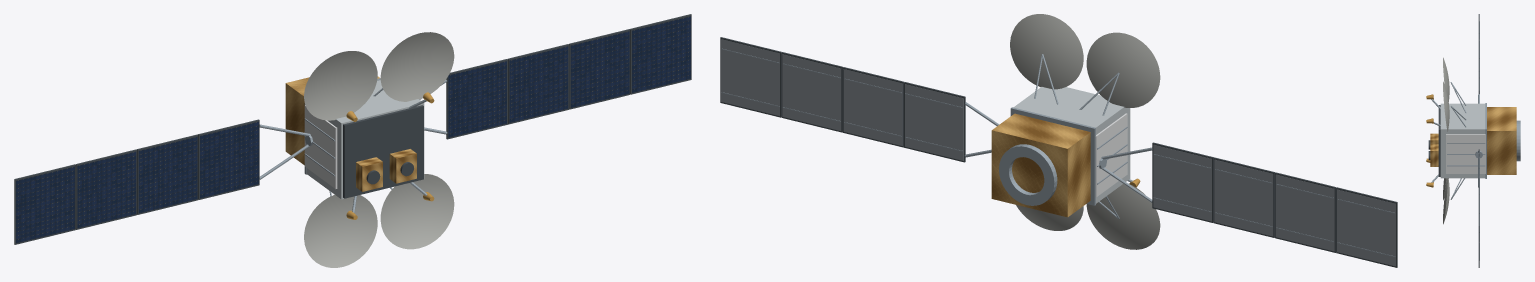
Rendered from ref-hs-601hp-24916.glb.
3 renders of one model, left to right at view 1: azimuth 30°, elevation 25°; view 2: azimuth 150°, elevation 25°; view 3: azimuth 270°, elevation 25°, orthographic. The views are drawn at different scales.
Parts seen in each view (by area): view 1: Solar cell panel (×8), Communications reflector (×4), Earth-facing deck, Solar panel frame (×8), Payload module, Radiator face, Service module, Communications feed assembly (×2); view 2: Rear array substrate (×8), Communications reflector (×4), Service module, Solar panel frame (×8), Payload module, Launch adapter ring, Radiator face, Module interface; view 3: Service module, Payload module, Radiator face, Communications reflector (×3), Communications feed assembly (×2), Launch adapter ring, Earth-facing deck, Solar panel frame, Module interface, Radiator seam.
Boxes of the visible parts, x1,y1,x2,y2 form: Solar cell panel (×8): (16,16,690,243); Communications reflector (×4): (304,32,454,267); Earth-facing deck: (343,105,423,198); Solar panel frame (×8): (14,14,691,244); Payload module: (306,80,424,199); Radiator face: (304,105,337,188); Service module: (285,76,379,165); Communications feed assembly (×2): (356,149,416,191); Rear array substrate (×8): (721,39,1395,266); Communications reflector (×4): (1010,14,1160,249); Service module: (991,113,1090,217); Solar panel frame (×8): (720,37,1397,267); Payload module: (1013,87,1130,203); Launch adapter ring: (999,144,1057,205); Radiator face: (1095,113,1127,197); Module interface: (1010,107,1095,205); Service module: (1487,107,1516,174); Payload module: (1440,103,1485,178); Radiator face: (1446,134,1485,173); Communications reflector (×3): (1443,57,1449,224); Communications feed assembly (×2): (1430,133,1438,166); Launch adapter ring: (1516,120,1520,161); Earth-facing deck: (1438,105,1440,176); Solar panel frame: (1478,207,1479,267); Module interface: (1485,103,1486,178); Radiator seam: (1447,165,1485,166).
Bounding box in the file's own units: 26.18 × 7.95 × 4.92.
Materials: 9 (2 with a texture image).
